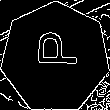P_W: (30, 39, 80, 77)
